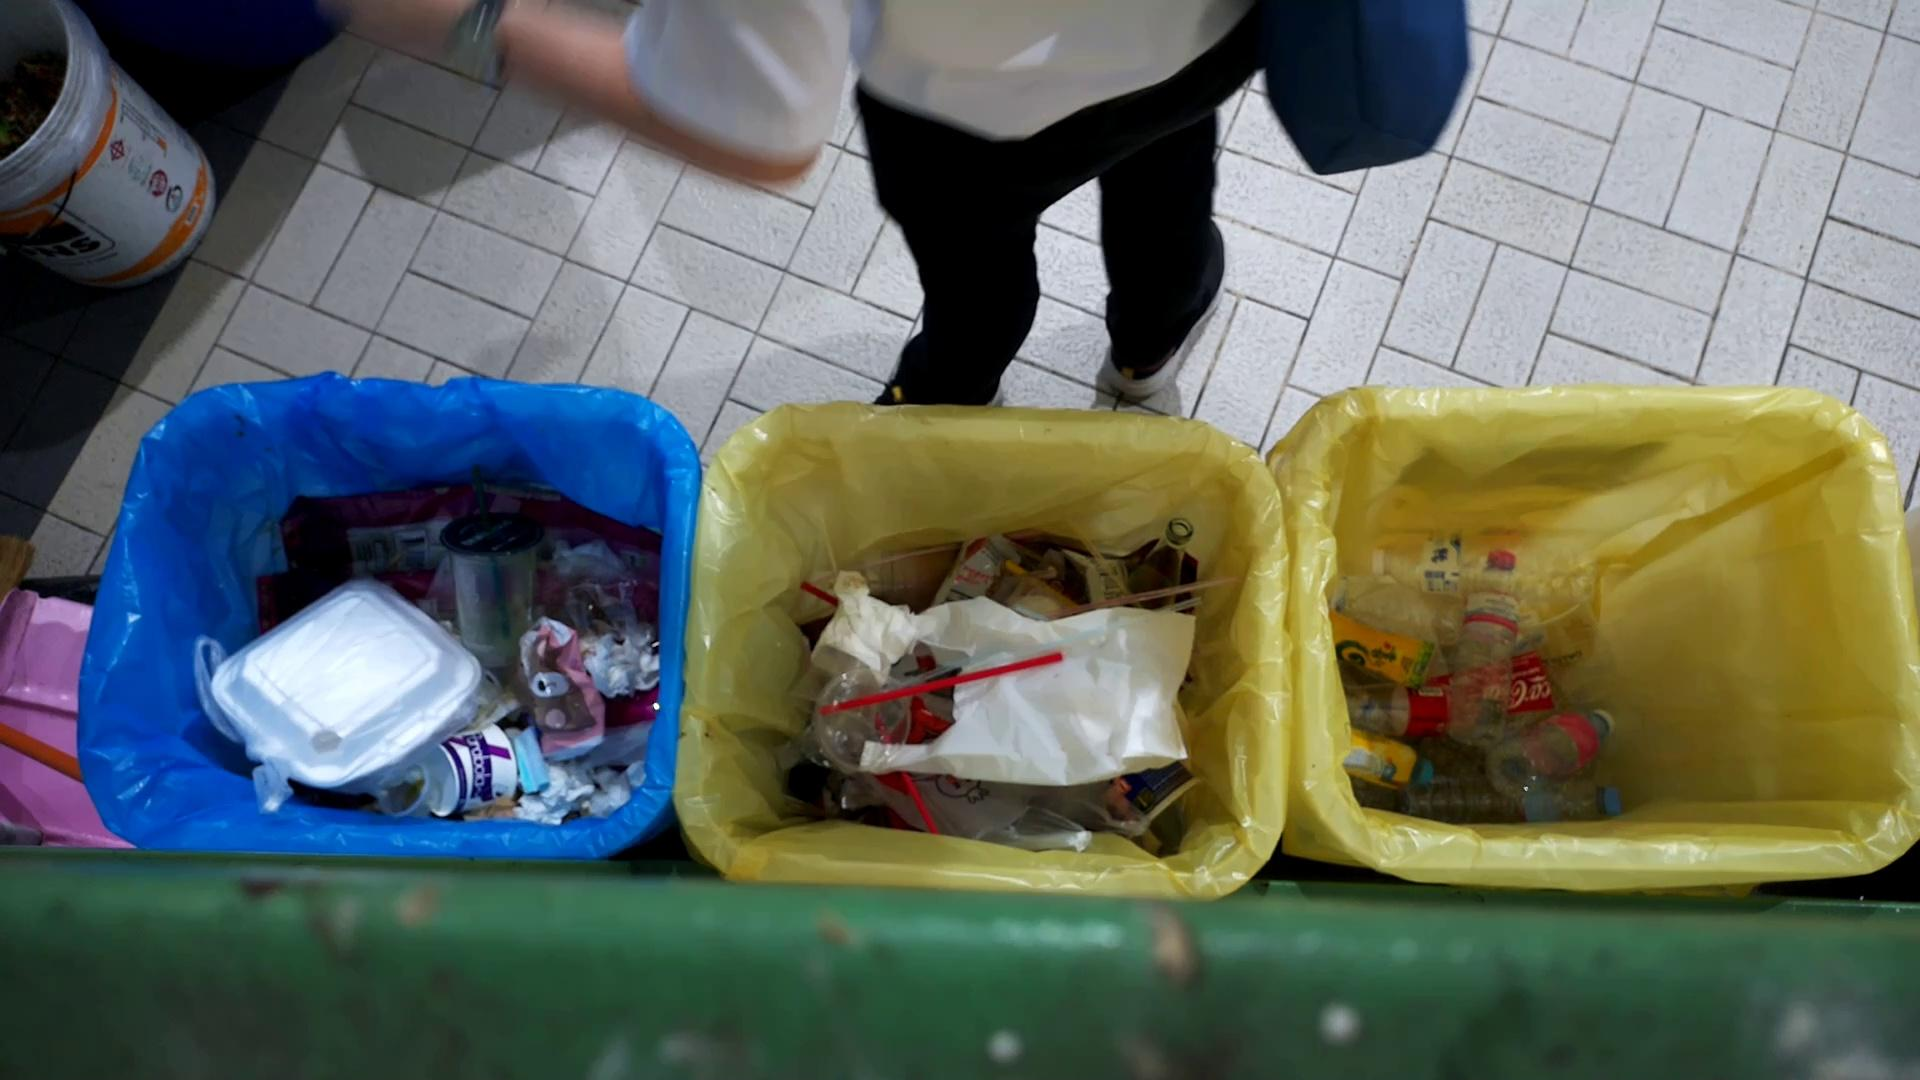filled plastic bag: (193, 560, 487, 810)
food container: (411, 709, 520, 815), (372, 757, 436, 822)
plastic bag: (855, 596, 1196, 789)
plastic bottle: (1360, 522, 1607, 607), (1447, 542, 1534, 738), (1482, 703, 1621, 802), (1328, 599, 1440, 702), (1445, 766, 1639, 822), (1338, 725, 1433, 793)
plastic cup: (790, 589, 913, 737), (435, 505, 545, 667), (808, 666, 915, 778)
snack packaging: (508, 612, 616, 766)
straw: (818, 651, 1064, 721), (901, 630, 1109, 690), (1035, 574, 1240, 625), (1065, 514, 1151, 620)
tissue paper: (810, 588, 914, 690), (563, 527, 637, 580), (588, 625, 638, 699), (529, 754, 592, 811), (510, 721, 553, 795), (582, 765, 640, 818), (514, 794, 568, 824)
